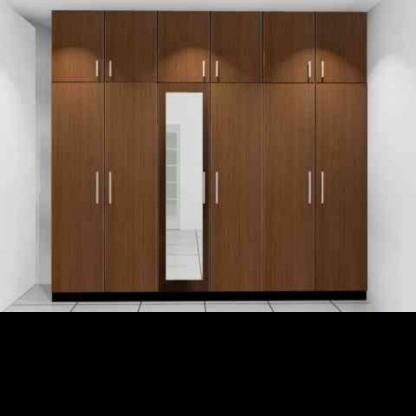Cabinet: (50, 10, 366, 298)
